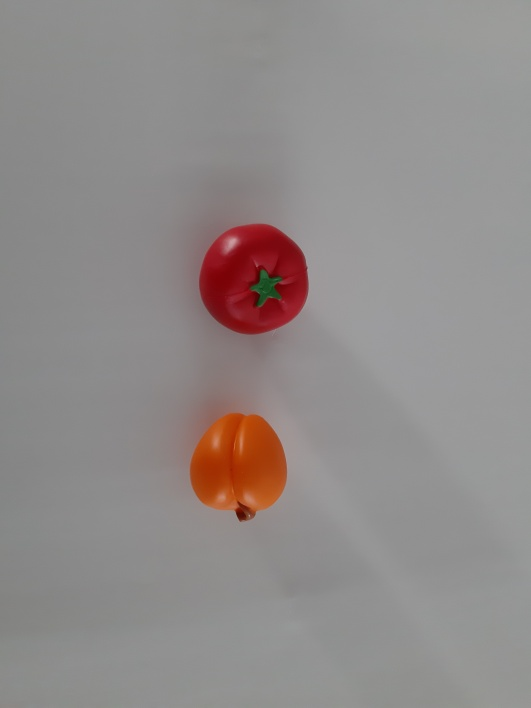apricot: (165, 391, 318, 537)
tomato: (175, 208, 338, 348)
